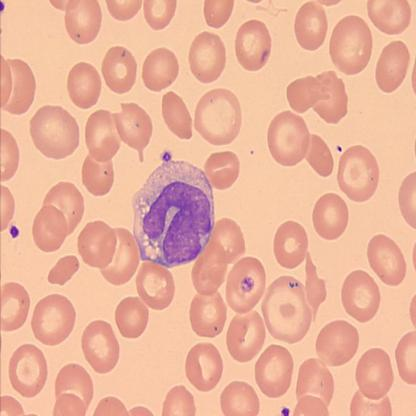Monocyte: (130, 155, 216, 271)
